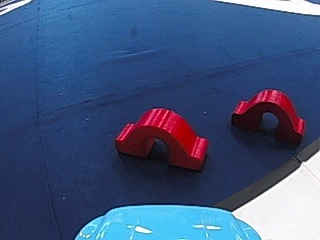bridge: (114, 103, 212, 165), (229, 85, 309, 144)
